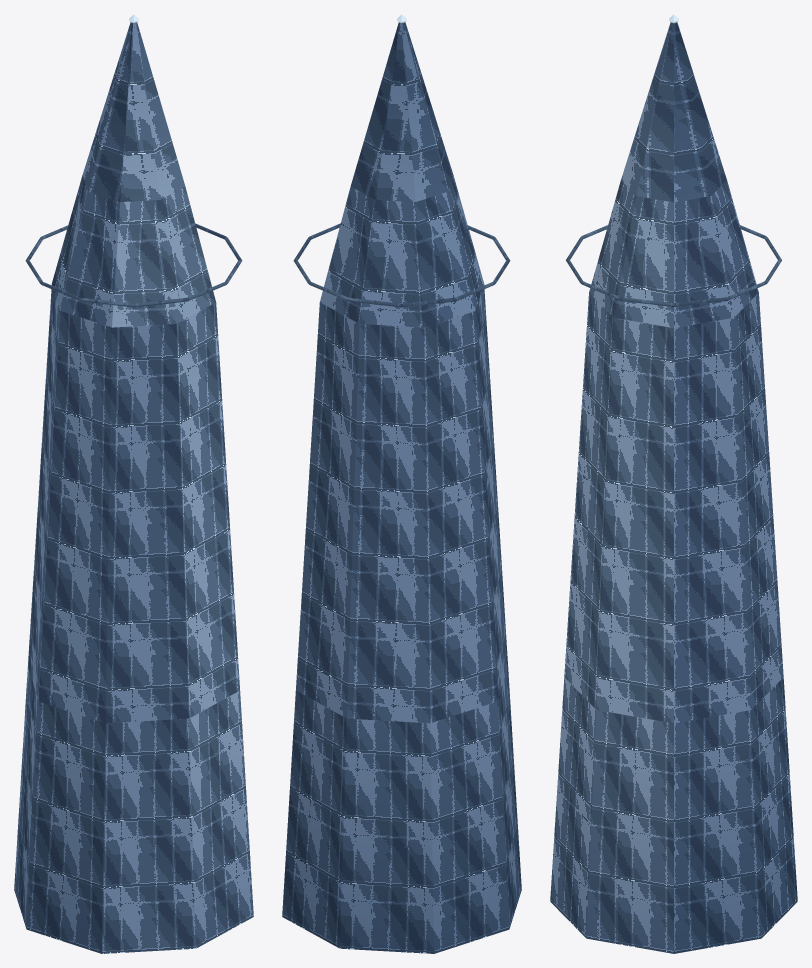
The model's file is cysky.megatower.glb.
3 renders of one model, left to right at view 1: azimuth 30°, elevation 25°; view 2: azimuth 150°, elevation 25°; view 3: azimuth 270°, elevation 25°, orthographic.
Visible parts, largest first — view 1: kit_body, kit_beacons; view 2: kit_body, kit_beacons; view 3: kit_body, kit_beacons.
Boxes of the visible parts, x1,y1,x2,y2 form: kit_body: (14,22,253,953); kit_beacons: (25,14,242,307); kit_body: (282,22,521,953); kit_beacons: (293,14,510,307); kit_body: (550,22,797,953); kit_beacons: (566,14,781,306).
Size of the model in its own units: 9.1 by 35.98 by 9.1.
Materials: 3 (3 with a texture image).
